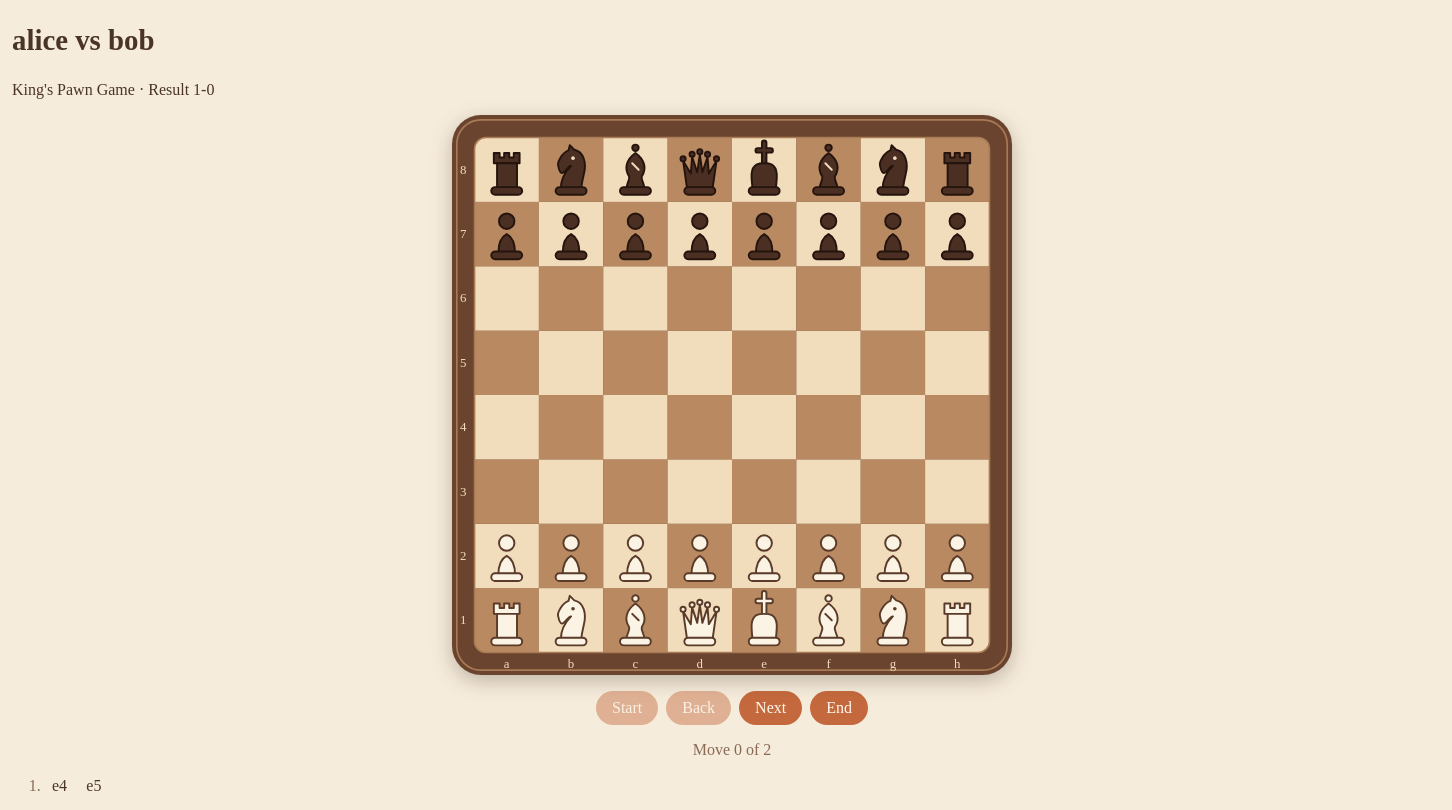
Test case: GamePage › jumps to a move when it is clicked in the move list
This screenshot has width=1452, height=810.
Click the button "e5".
click(94, 786)  # box [78,775,109,798]
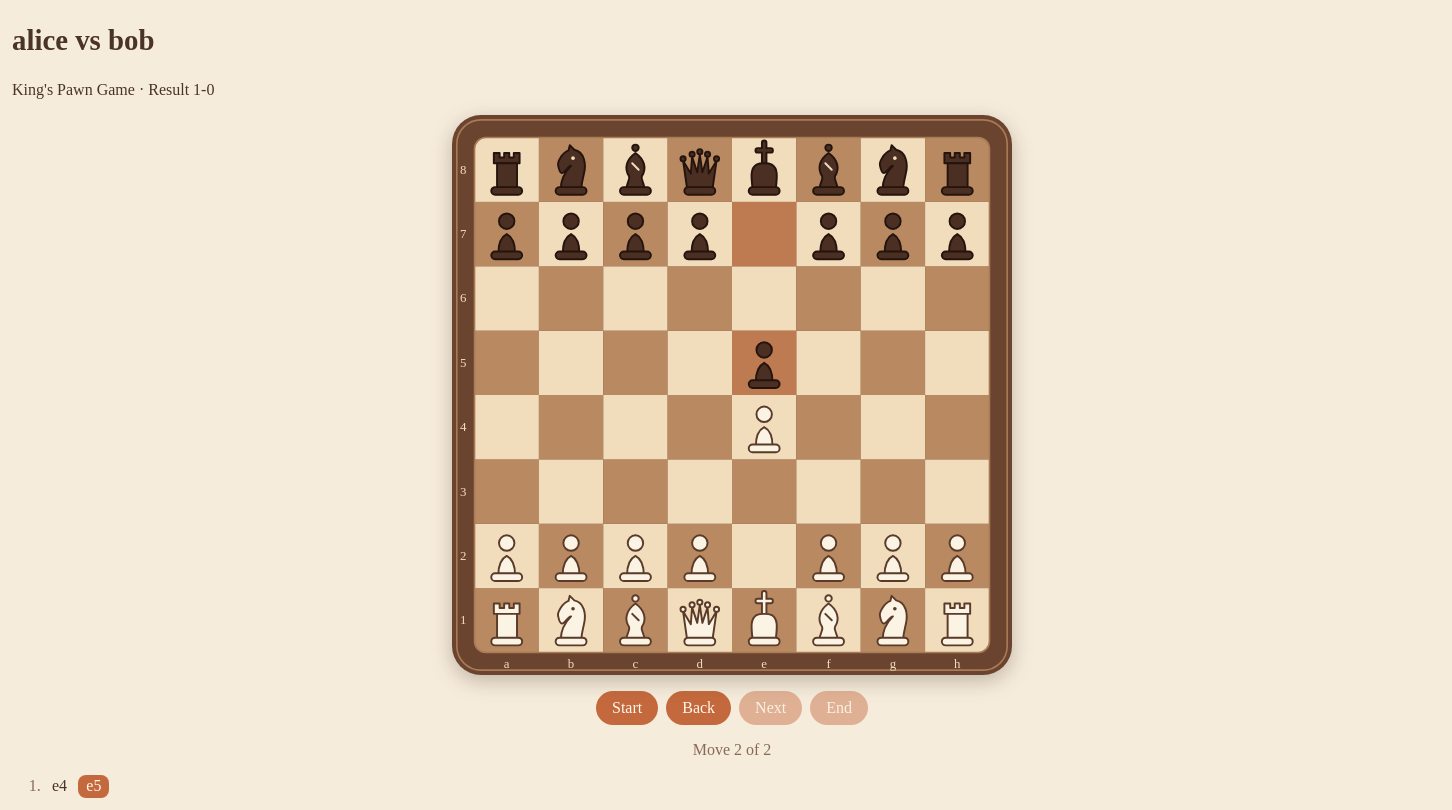
Expected: the text "Move 2 of 2" is shown, [693,741,771,758]
